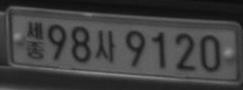0: (199, 33, 222, 72)
1: (150, 32, 170, 70)
2: (173, 33, 197, 72)
8: (70, 25, 91, 62)
9: (125, 29, 146, 68), (46, 23, 67, 60)
사: (94, 29, 116, 63)
세종_V: (25, 20, 44, 60)
